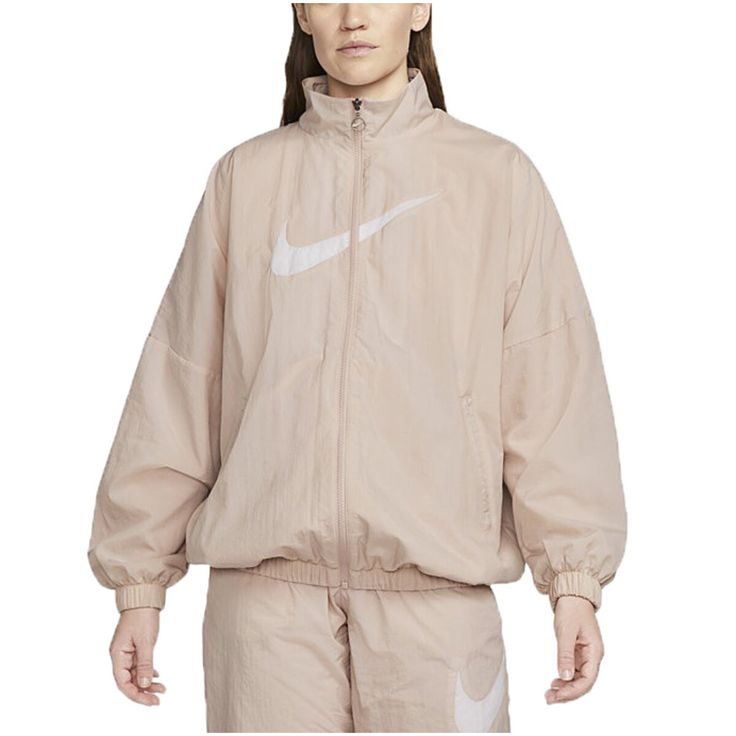nylon: (89, 67, 630, 736)
